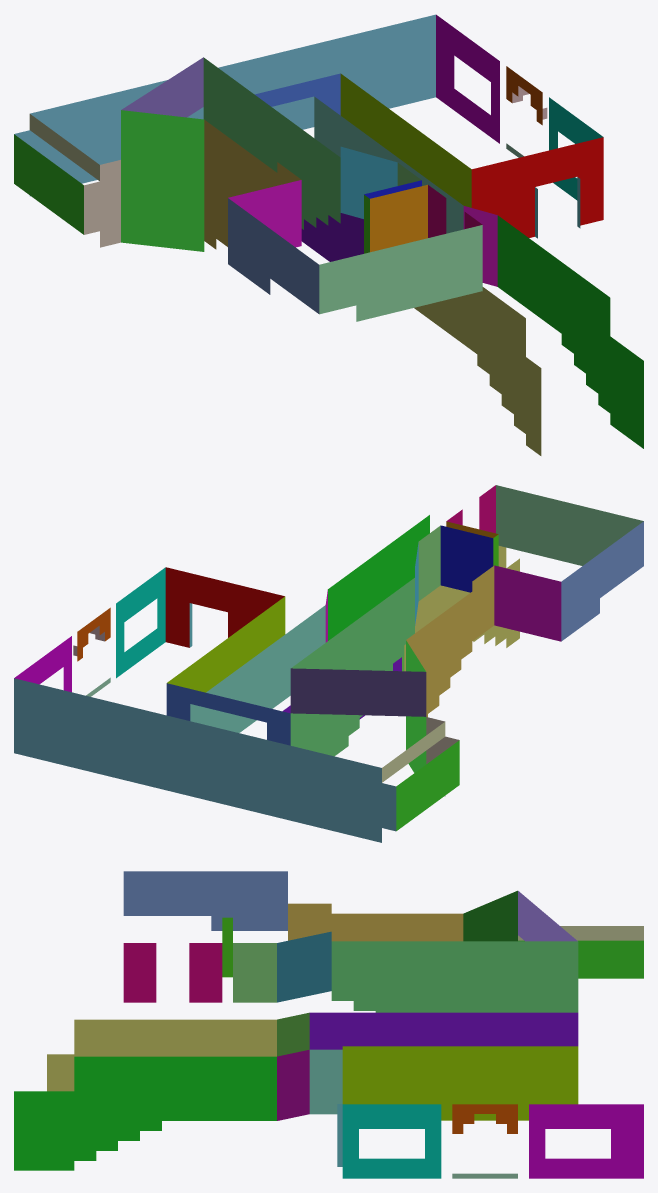
The model's file is brkgry01-1.fbx.
3 renders of one model, top to bottom at view 1: azimuth 30°, elevation 25°; view 2: azimuth 150°, elevation 25°; view 3: azimuth 270°, elevation 25°, orthographic. The views are drawn at different scales.
Parts seen in each view (by area): view 1: BRKGRY01.1 (×25); view 2: BRKGRY01.1 (×23); view 3: BRKGRY01.1 (×21).
Part boxes in pixels (x1,y1,x2,y2): BRKGRY01.1 (×25): (14, 14, 643, 455); BRKGRY01.1 (×23): (14, 485, 643, 842); BRKGRY01.1 (×21): (14, 871, 643, 1178).
Bounding box in the file's own units: 1312 × 592 × 1840.
